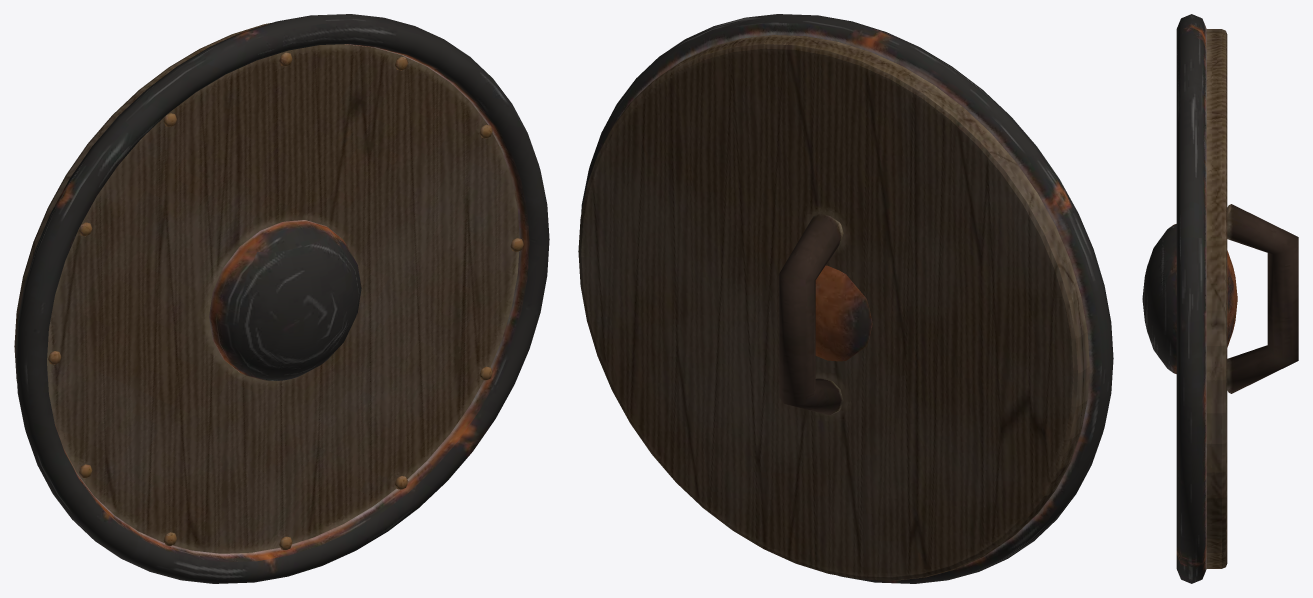
File: eq_shield_1.glb
3 renders of one model, left to right at view 1: azimuth 30°, elevation 25°; view 2: azimuth 150°, elevation 25°; view 3: azimuth 270°, elevation 25°, orthographic. The views are drawn at different scales.
Visible parts, largest first — view 1: eq_shield_1; view 2: eq_shield_1; view 3: eq_shield_1.
Part boxes in pixels (x1,y1,x2,y2): eq_shield_1: [14, 14, 549, 583]; eq_shield_1: [578, 14, 1113, 583]; eq_shield_1: [1142, 14, 1298, 583].
Size of the model in its own units: 0.718 by 0.718 by 0.1964.
1 material, 1 textured.
